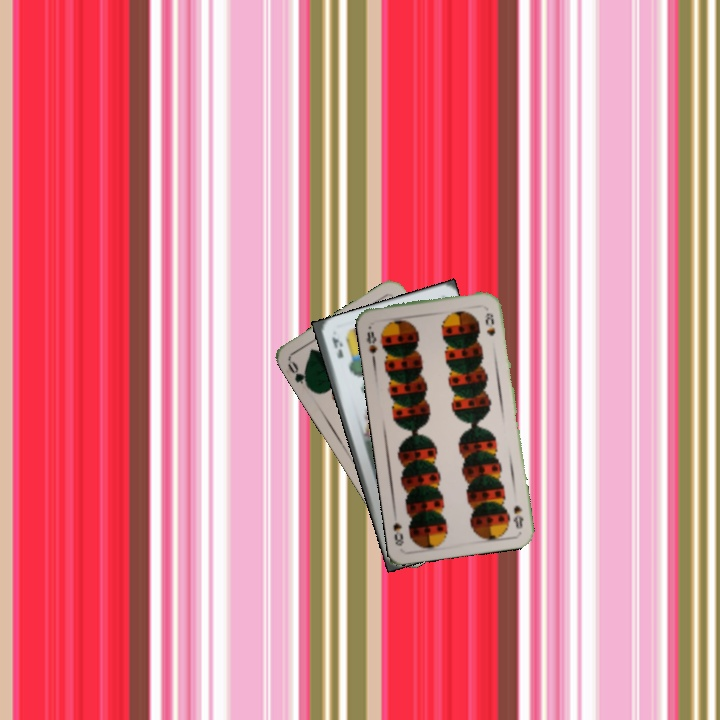EK: (328, 332, 346, 361)
GO: (283, 357, 313, 392)
S8: (362, 328, 380, 362), (509, 501, 526, 531)
